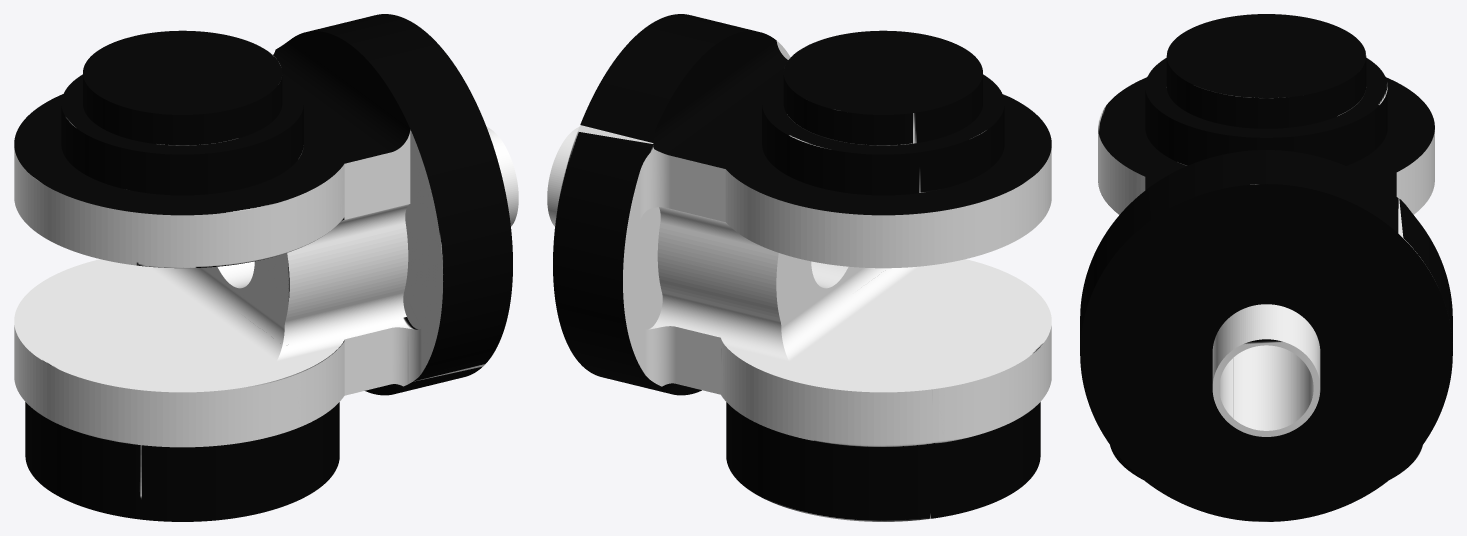
3 views of the same model, side by side, from view 1: azimuth 30°, elevation 25°; view 2: azimuth 150°, elevation 25°; view 3: azimuth 270°, elevation 25° (orthographic).
Visible parts, largest first — view 1: link51; view 2: link51; view 3: link51.
Boxes of the visible parts, x1,y1,x2,y2 form: link51: (14, 14, 518, 521); link51: (547, 14, 1051, 521); link51: (1080, 14, 1452, 521).
Bounding box in the file's own units: 0.117 × 0.083 × 0.094.
1 material, 1 textured.
